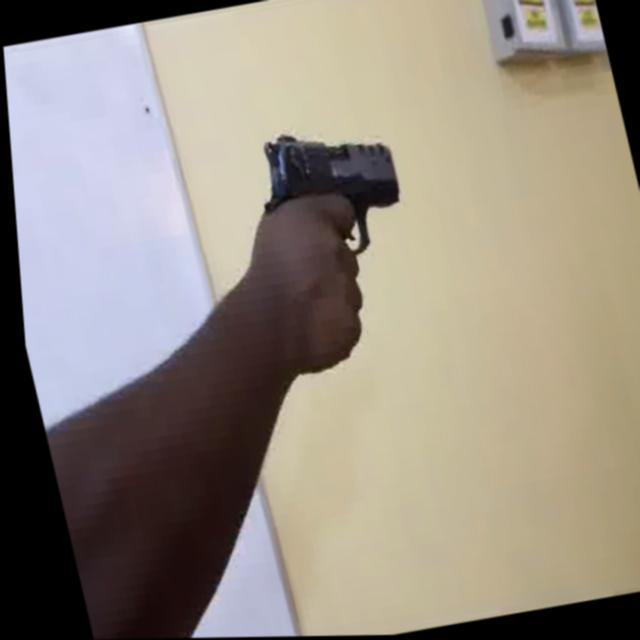weapon: (247, 115, 410, 269)
